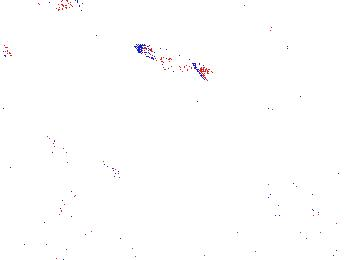X-ray fish: (92, 237, 141, 259)
glassfish: (34, 130, 137, 194)
red belly glassfish: (267, 23, 290, 47)
redtail glassfish: (136, 41, 211, 80), (38, 1, 87, 15), (1, 28, 21, 62)
